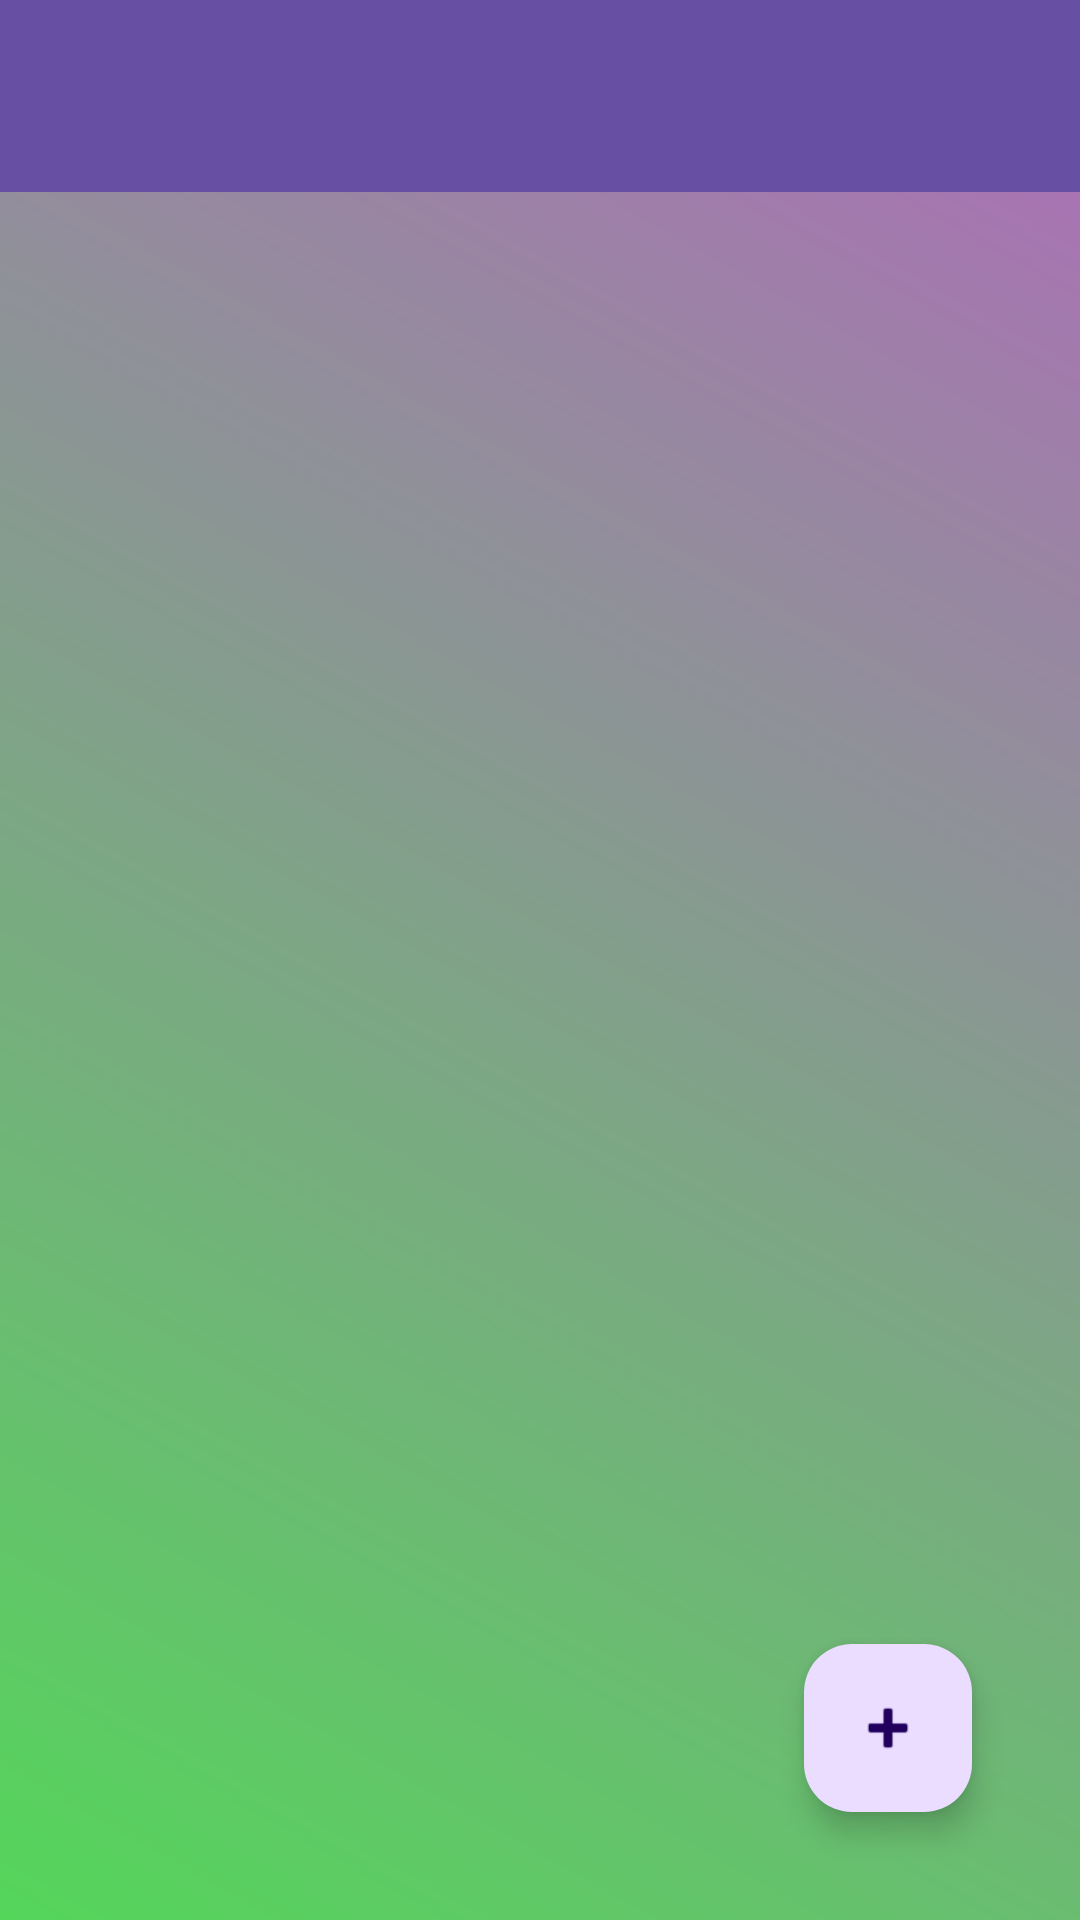

Screen size 1080 x 1920. Icon name, then its center in pixels as (x=x, y=y):
add: (x=888, y=1728)
